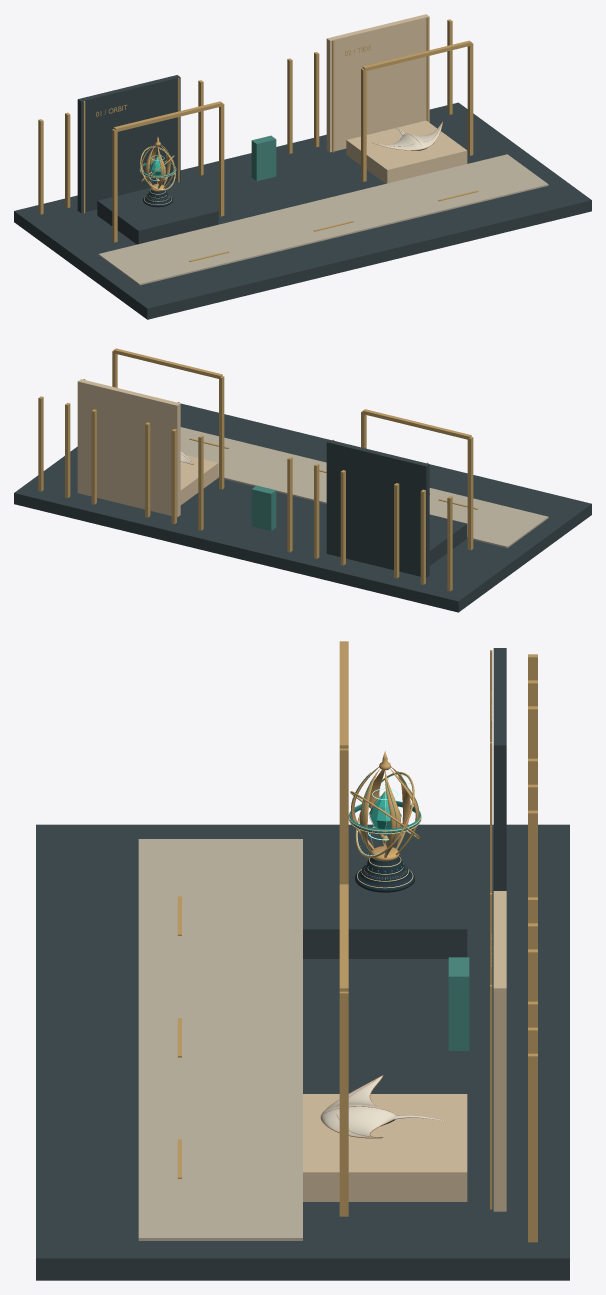
Rendered from spatial-index.glb.
3 views of the same model, one above another, from view 1: azimuth 30°, elevation 25°; view 2: azimuth 150°, elevation 25°; view 3: azimuth 270°, elevation 25° (orthographic). The views are drawn at different scales.
Parts seen in each view (by area): view 1: Foundation, Concourse, Tide rear wall, Orbit rear wall, Orbit plinth, Tide plinth, Index monolith, Orbit / Batch | Champagne gold | brushed edges, Portal upright.003, Tide / A | continuous porcelain wing, Portal upright.002, Portal upright (+10 smaller); view 2: Foundation, Tide rear wall, Orbit rear wall, Concourse, Orbit plinth, Tide plinth, Index monolith, Portal upright, Portal upright.002, Portal lintel, Portal lintel.001, Colonnade (+11 smaller); view 3: Foundation, Concourse, Orbit plinth, Tide plinth, Tide rear wall, Orbit rear wall, Orbit / Batch | Champagne gold | brushed edges, Portal upright.003, Index monolith, Tide / A | continuous porcelain wing, Colonnade.011, Orbit / Batch | Midnight ceramic (+4 smaller).
Boxes of the visible parts, box(x1,y1,x2,y2) form: Foundation: box(14, 102, 591, 319); Concourse: box(98, 154, 548, 285); Tide rear wall: box(326, 14, 429, 152); Orbit rear wall: box(77, 75, 180, 212); Orbit plinth: box(97, 181, 218, 244); Tide plinth: box(346, 120, 467, 183); Index monolith: box(251, 135, 276, 180); Orbit / Batch | Champagne gold | brushed edges: box(140, 137, 175, 191); Portal upright.003: box(467, 42, 473, 155); Tide / A | continuous porcelain wing: box(374, 122, 442, 150); Portal upright.002: box(361, 68, 366, 181); Portal upright: box(112, 129, 117, 242); Foundation: box(14, 403, 591, 612); Tide rear wall: box(77, 379, 180, 517); Orbit rear wall: box(326, 440, 429, 577); Concourse: box(180, 427, 548, 548); Orbit plinth: box(429, 514, 467, 565); Tide plinth: box(180, 455, 218, 504); Index monolith: box(251, 485, 276, 530); Portal upright: box(467, 437, 473, 550); Portal upright.002: box(219, 376, 224, 489); Portal lintel: box(362, 409, 471, 439); Portal lintel.001: box(113, 348, 222, 378); Colonnade: box(447, 496, 452, 591); Foundation: box(36, 824, 569, 1280); Concourse: box(138, 839, 302, 1240); Orbit plinth: box(303, 851, 467, 958); Tide plinth: box(303, 1094, 467, 1201); Tide rear wall: box(493, 891, 506, 1211); Orbit rear wall: box(493, 648, 506, 890); Orbit / Batch | Champagne gold | brushed edges: box(350, 751, 419, 861); Portal upright.003: box(339, 991, 348, 1216); Index monolith: box(448, 957, 469, 1050); Tide / A | continuous porcelain wing: box(321, 1076, 395, 1138); Colonnade.011: box(528, 1053, 537, 1242); Orbit / Batch | Midnight ceramic: box(355, 857, 414, 892).
Size of the model in its own units: 25 by 6.69 by 13.
